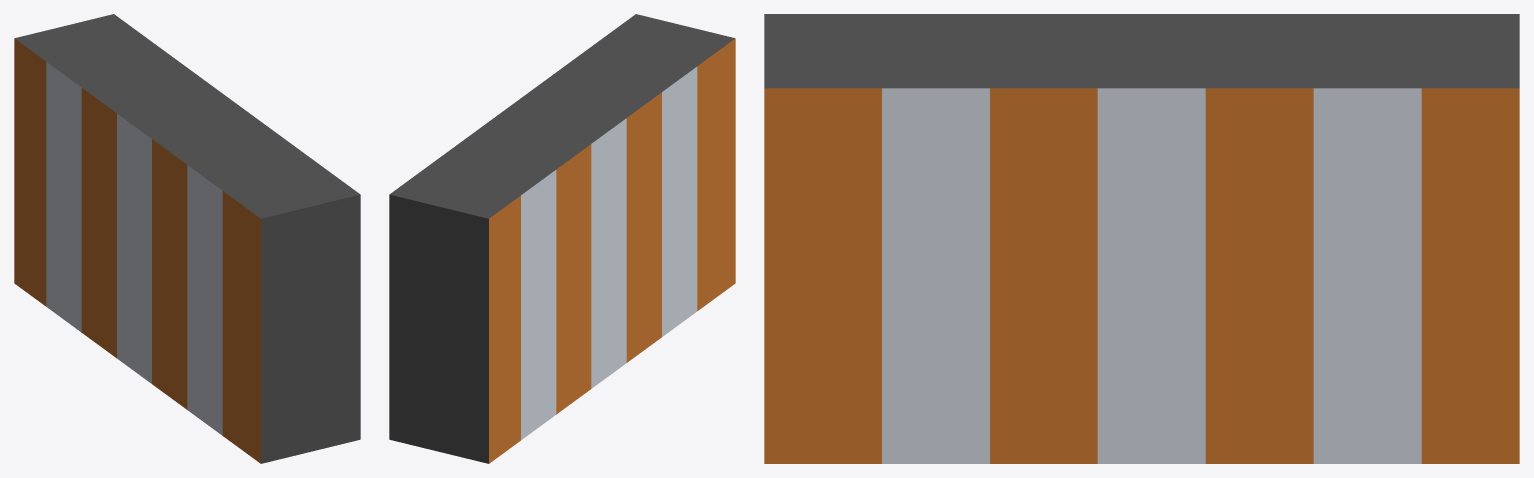
The model's file is blockademini.glb.
The picture shows the model from 3 angles, left to right: view 1: azimuth 30°, elevation 25°; view 2: azimuth 150°, elevation 25°; view 3: azimuth 270°, elevation 25°; orthographic projection. The views are drawn at different scales.
Visible parts, largest first — view 1: Cube; view 2: Cube; view 3: Cube.
Boxes of the visible parts, bbox=[...] form: Cube: bbox=[14, 14, 360, 463]; Cube: bbox=[389, 14, 735, 463]; Cube: bbox=[764, 14, 1519, 463].
Size of the model in its own units: 0.5474 by 1.29 by 2.35.
